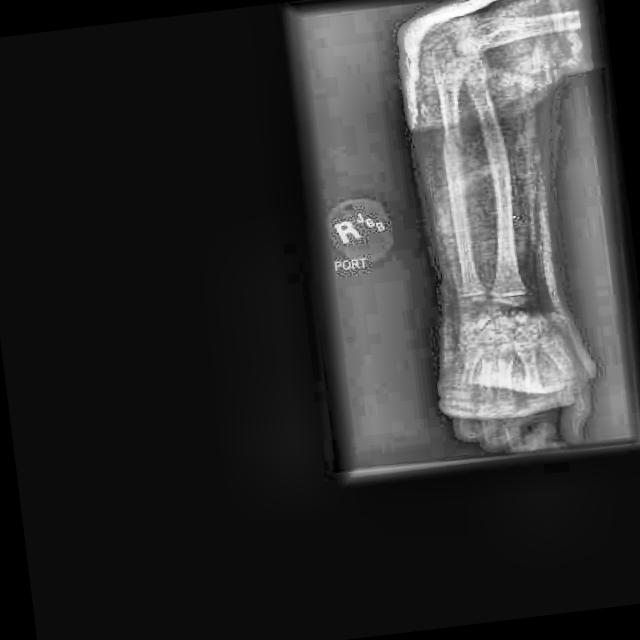forearm fracture: (432, 130, 476, 183)
